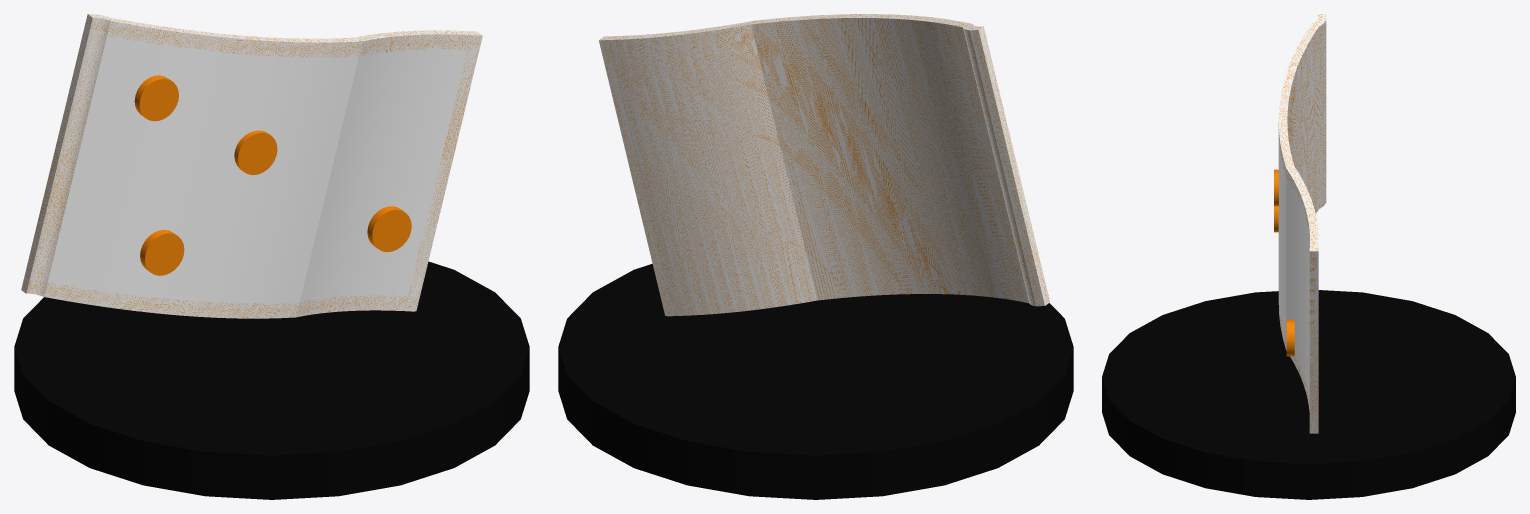
The model's file is BottonePerMappe.fbx.
The picture shows the model from 3 angles, left to right: view 1: azimuth 30°, elevation 25°; view 2: azimuth 150°, elevation 25°; view 3: azimuth 270°, elevation 25°; orthographic projection. The views are drawn at different scales.
Parts seen in each view (by area): view 1: SketchUp; view 2: SketchUp; view 3: SketchUp.
Boxes of the visible parts, left/top/right/bottom form: SketchUp: left=14, top=14, right=529, bottom=499; SketchUp: left=558, top=14, right=1073, bottom=499; SketchUp: left=1102, top=14, right=1515, bottom=499.
Bounding box in the file's own units: 164 × 139 × 158.
